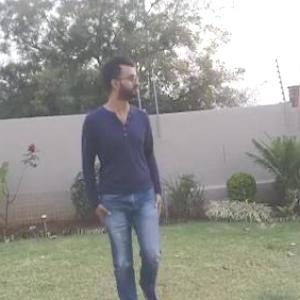follow: (79, 49, 172, 299)
